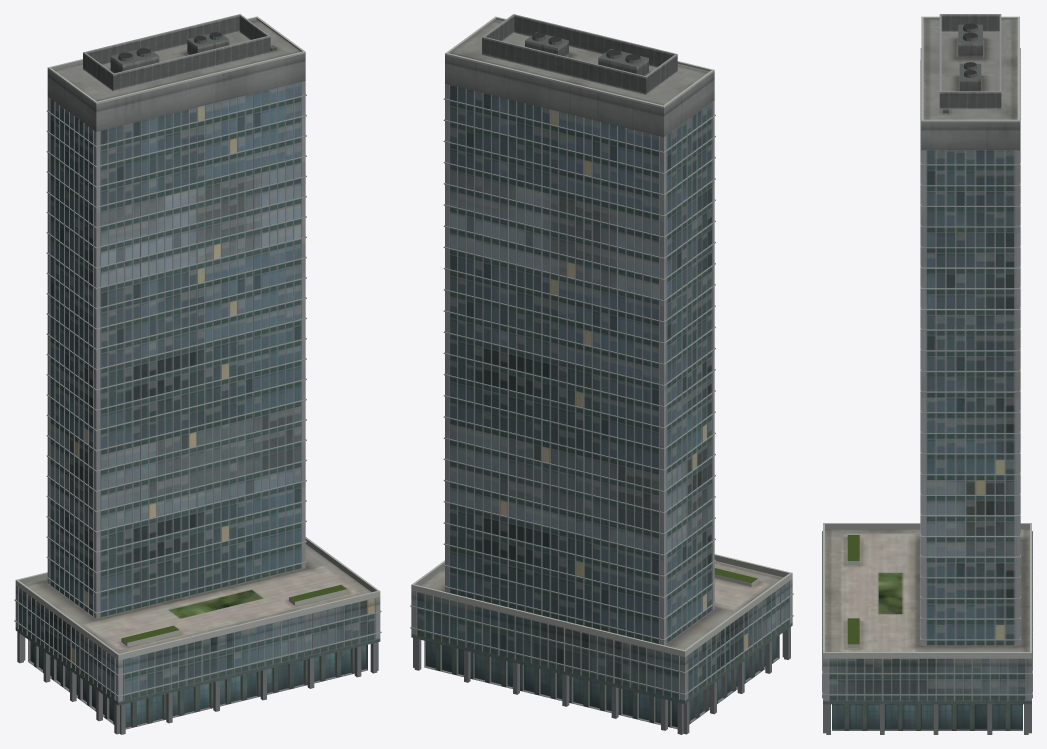
The model's file is nyc_glassslab_b.glb.
3 renders of one model, left to right at view 1: azimuth 30°, elevation 25°; view 2: azimuth 150°, elevation 25°; view 3: azimuth 270°, elevation 25°, orthographic. The views are drawn at different scales.
Parts seen in each view (by area): view 1: nyc_glassslab_b; view 2: nyc_glassslab_b; view 3: nyc_glassslab_b.
Part boxes in pixels (x1,y1,x2,y2): nyc_glassslab_b: [14, 14, 381, 734]; nyc_glassslab_b: [410, 14, 793, 734]; nyc_glassslab_b: [822, 14, 1032, 734].
Size of the model in its own units: 50.27 by 111 by 34.28.
Materials: 1 (1 with a texture image).
